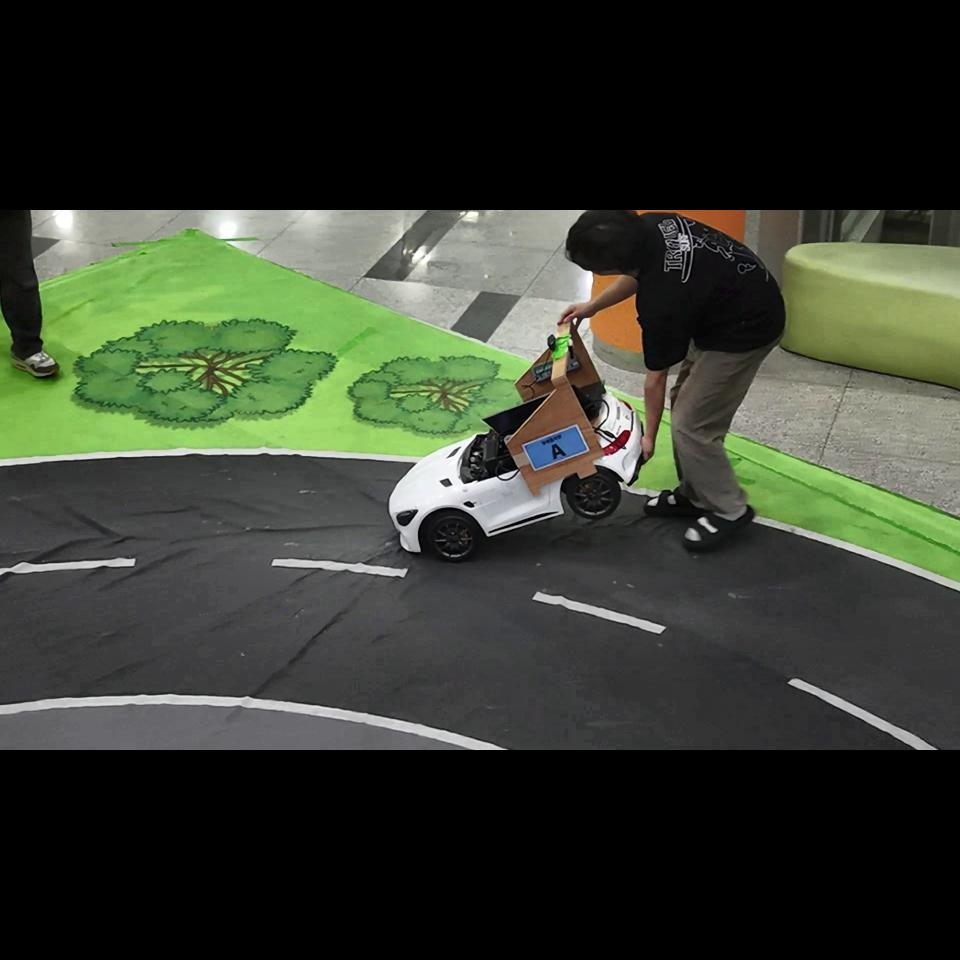broken_line: (787, 678, 939, 750), (532, 591, 667, 634), (270, 558, 408, 578), (0, 557, 136, 576)
